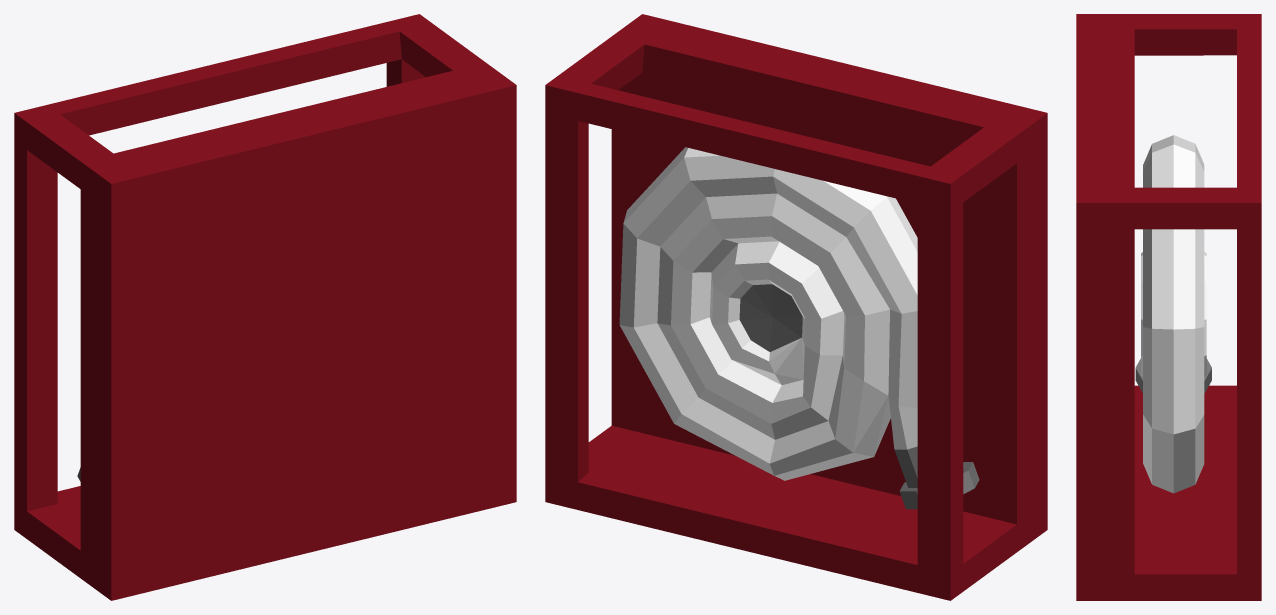
The model's file is fireHose.glb.
3 renders of one model, left to right at view 1: azimuth 30°, elevation 25°; view 2: azimuth 150°, elevation 25°; view 3: azimuth 270°, elevation 25°, orthographic. The views are drawn at different scales.
Parts seen in each view (by area): view 1: mesh_firehose_01; view 2: mesh_firehose_01; view 3: mesh_firehose_01.
Part boxes in pixels (x1,y1,x2,y2): mesh_firehose_01: [14, 14, 516, 600]; mesh_firehose_01: [545, 14, 1047, 600]; mesh_firehose_01: [1076, 14, 1261, 600].
Size of the model in its own units: 0.7585 by 0.7456 by 0.3149.
1 material, 1 textured.
